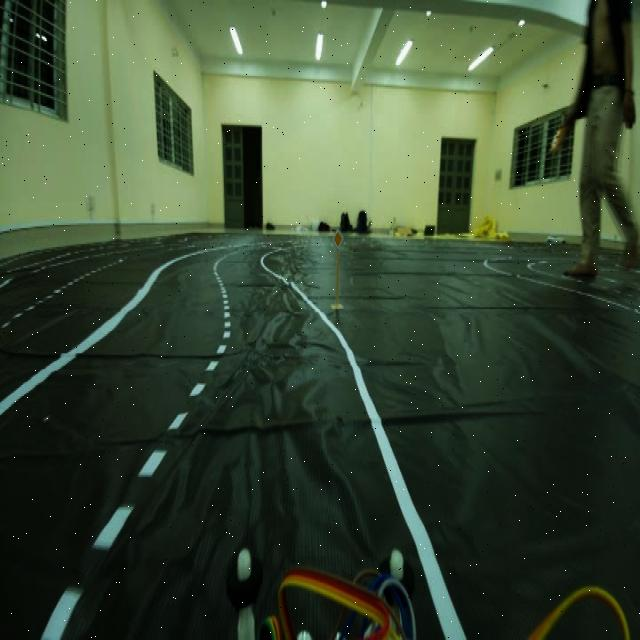priority: (330, 226, 346, 250)
